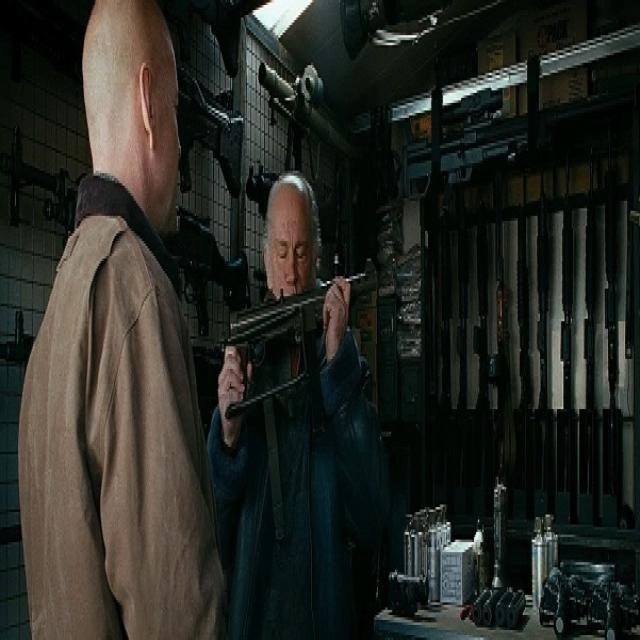rifle: (227, 265, 387, 416)
